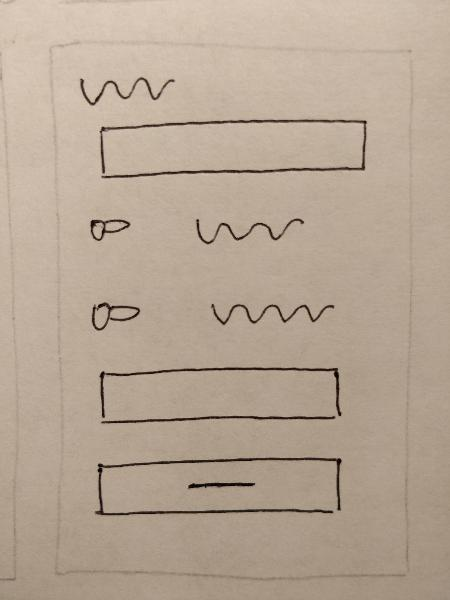button: (83, 449, 349, 529)
switch: (76, 290, 149, 339), (82, 201, 136, 248)
text: (196, 289, 337, 341), (184, 208, 311, 249), (74, 68, 179, 106)
text_input: (91, 114, 377, 185), (91, 358, 350, 431)
